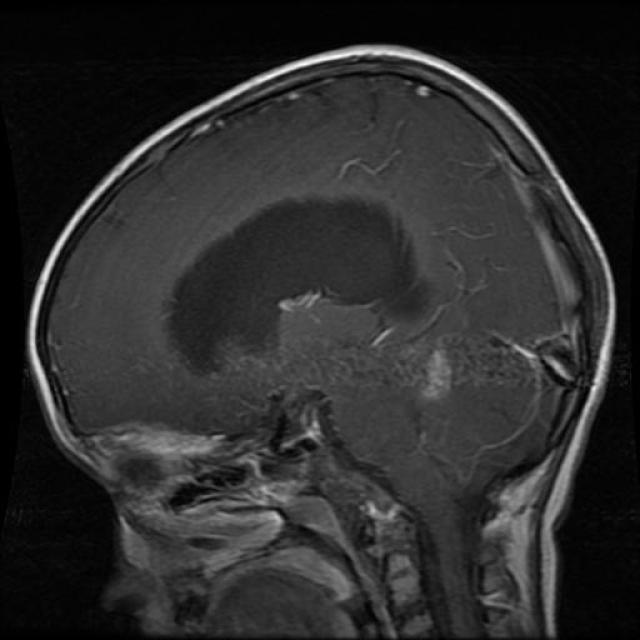glioma: (171, 198, 435, 368)
